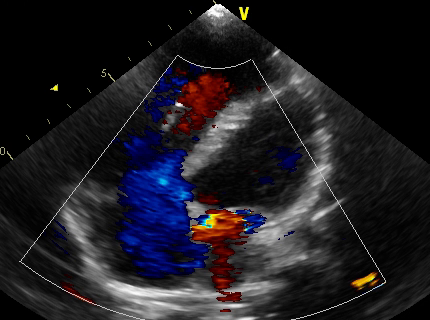TR: (118, 168, 189, 225)
